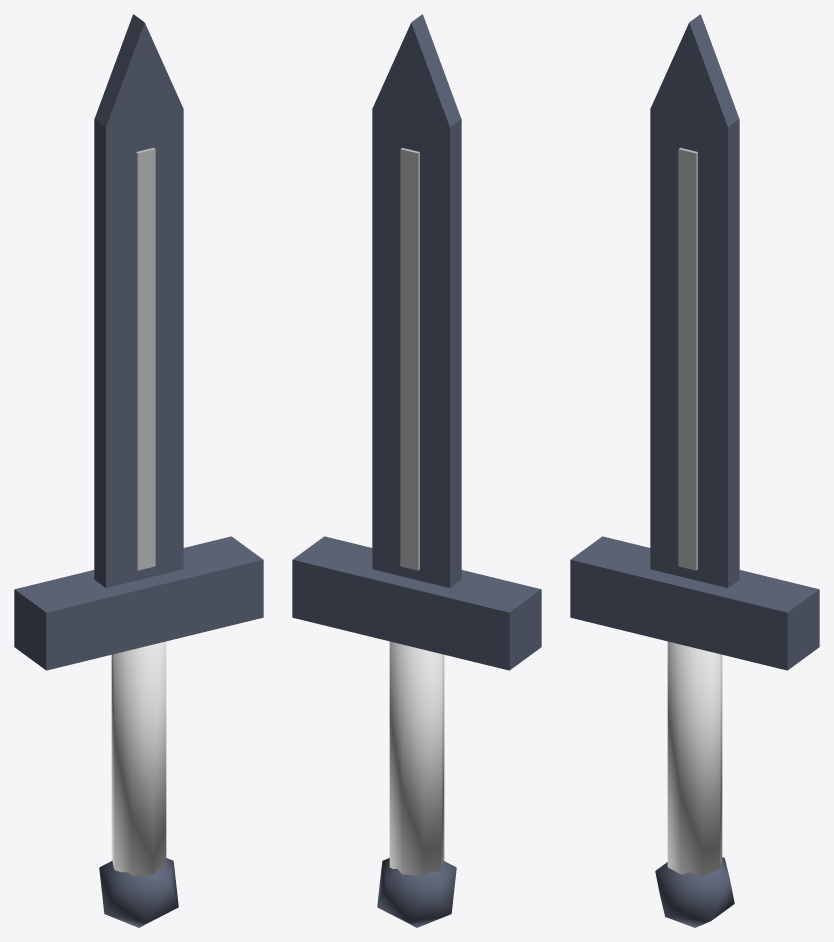
The model's file is lead_shortsword.glb.
3 renders of one model, left to right at view 1: azimuth 30°, elevation 25°; view 2: azimuth 150°, elevation 25°; view 3: azimuth 330°, elevation 25°, orthographic.
Visible parts, largest first — view 1: lead_shortsword_v0; view 2: lead_shortsword_v0; view 3: lead_shortsword_v0.
Boxes of the visible parts, left/top/right/bottom form: lead_shortsword_v0: left=14, top=14, right=263, bottom=927; lead_shortsword_v0: left=292, top=14, right=541, bottom=927; lead_shortsword_v0: left=570, top=14, right=819, bottom=927.
Bounding box in the file's own units: 0.196 × 0.785 × 0.0595.
